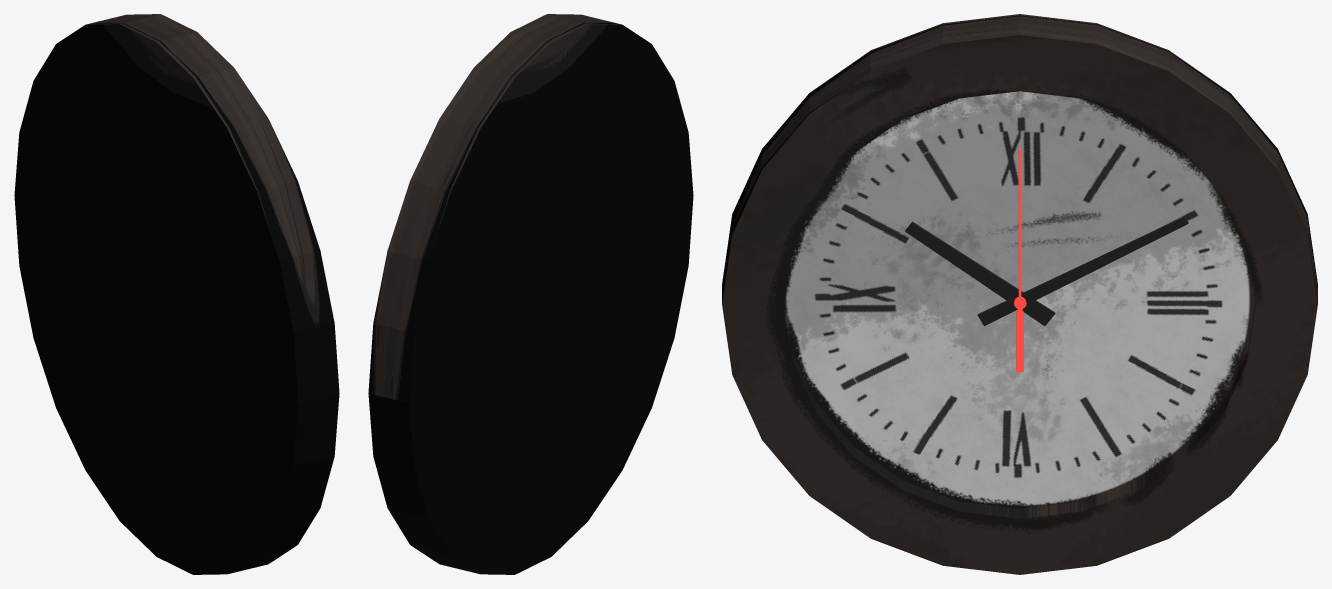
The model's file is clock.gltf.
3 renders of one model, left to right at view 1: azimuth 30°, elevation 25°; view 2: azimuth 150°, elevation 25°; view 3: azimuth 270°, elevation 25°, orthographic. The views are drawn at different scales.
Visible parts, largest first — view 1: Clock; view 2: Clock; view 3: Clock, clock-aiguille.
Part boxes in pixels (bbox=[...]): Clock: bbox=[14, 14, 339, 574]; Clock: bbox=[368, 14, 693, 574]; Clock: bbox=[722, 14, 1317, 574]; clock-aiguille: bbox=[1013, 148, 1026, 372].
Size of the model in its own units: 0.9666 by 11.57 by 11.57.
Materials: 3 (1 with a texture image).
